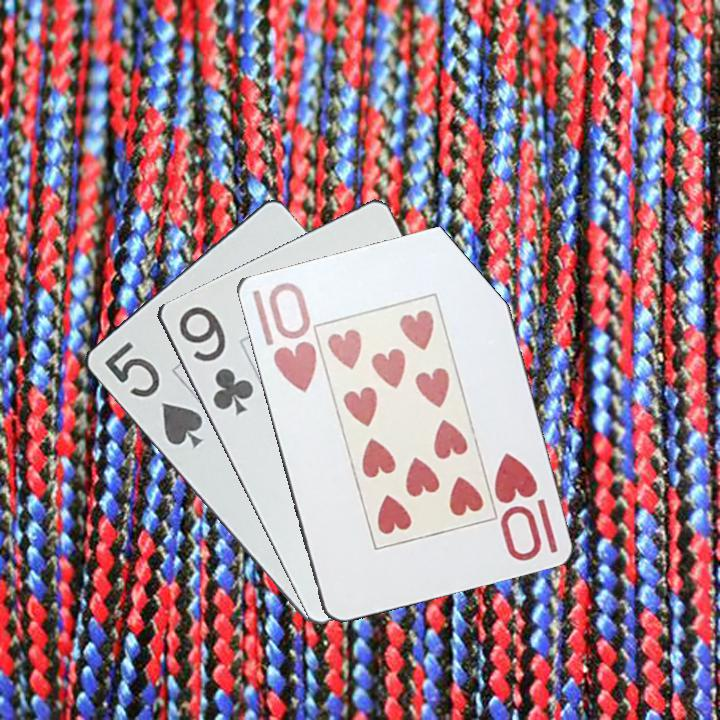5s: (100, 337, 206, 451)
9c: (174, 302, 256, 418)
Th: (490, 448, 561, 564), (264, 278, 320, 396)
